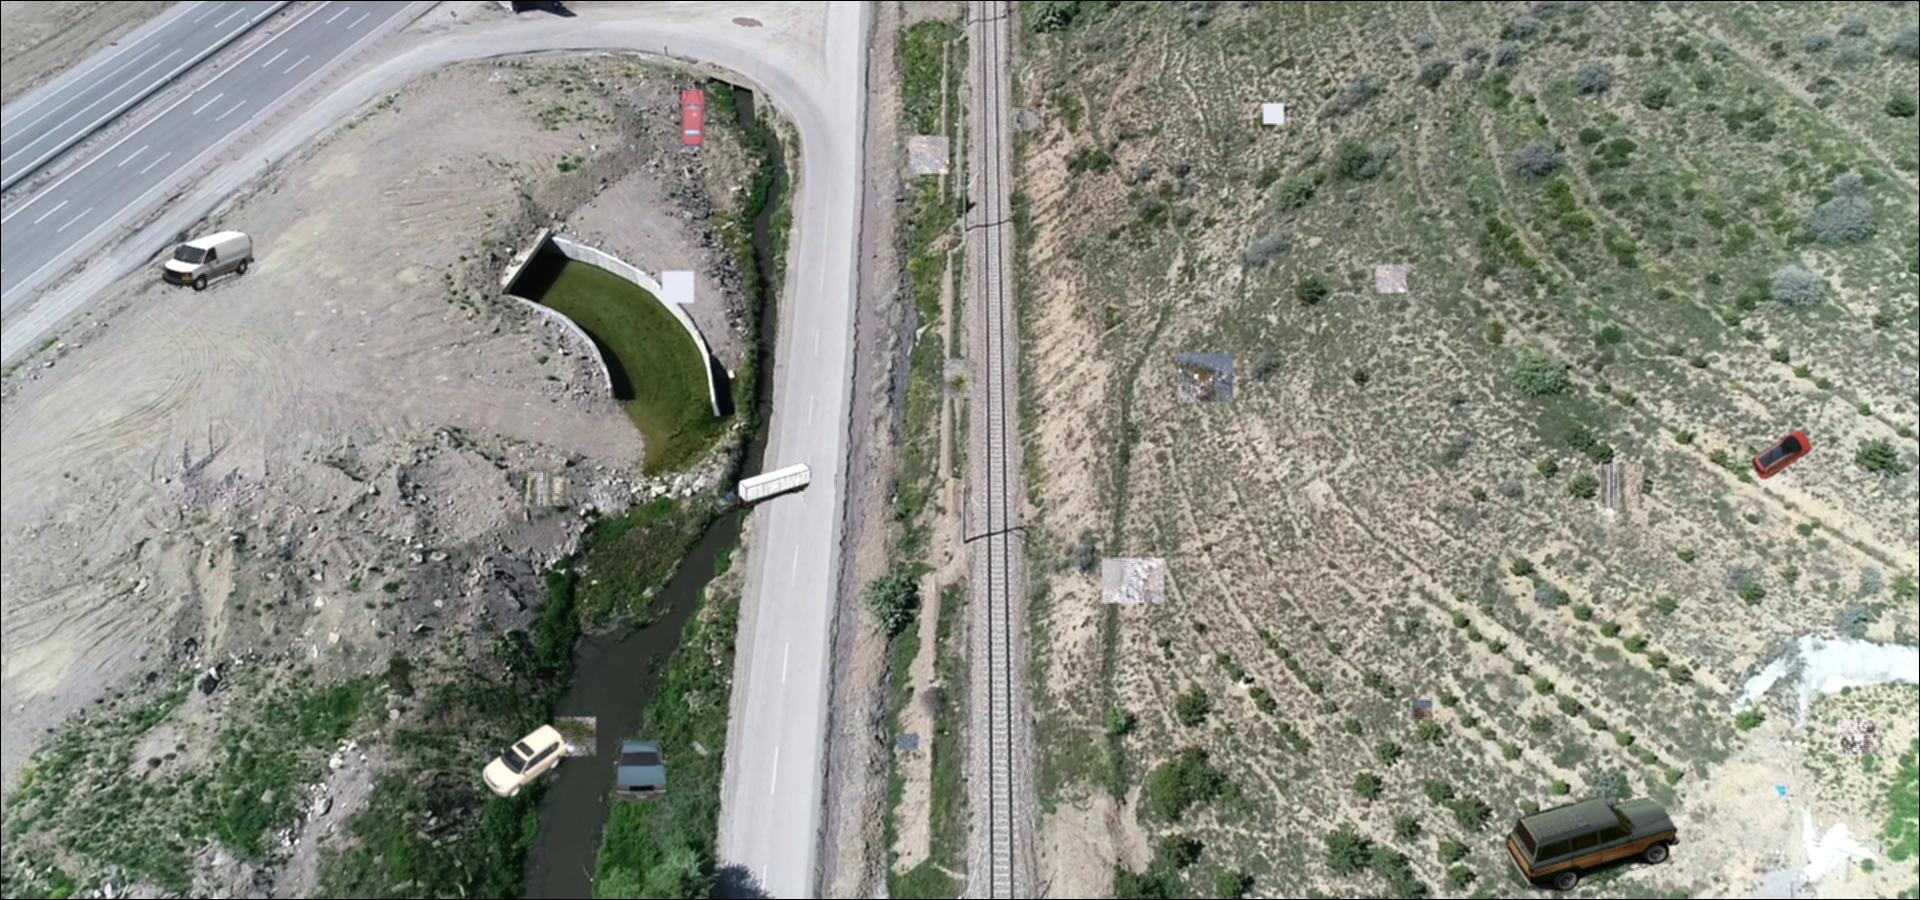arac: (1505, 798, 1680, 891), (480, 724, 571, 797), (162, 229, 253, 294), (711, 460, 816, 516), (610, 740, 669, 801), (1752, 430, 1812, 480), (680, 86, 707, 149)
